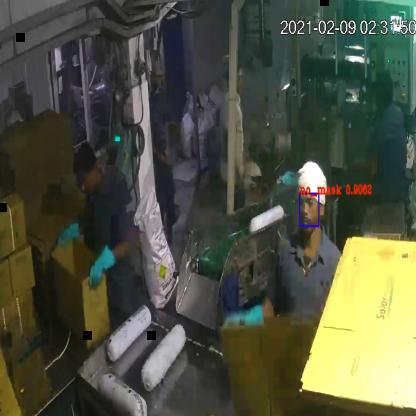glove: (80, 237, 131, 288), (211, 302, 271, 344), (51, 210, 86, 254)
no_glove: (148, 130, 176, 178)
